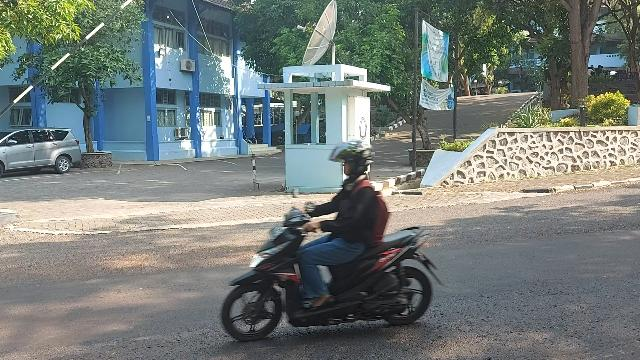helm: (331, 141, 376, 178)
motor: (222, 189, 446, 344)
